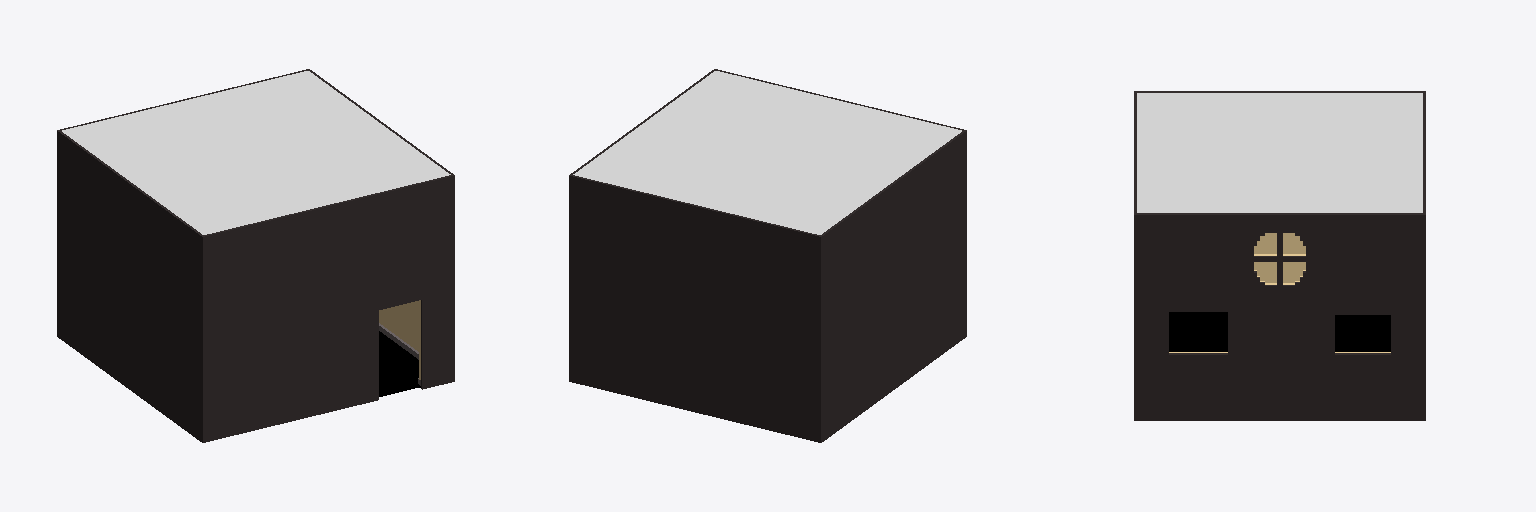
The picture shows the model from 3 angles: view 1: azimuth 30°, elevation 25°; view 2: azimuth 150°, elevation 25°; view 3: azimuth 270°, elevation 25°; orthographic projection.
Parts seen in each view (by area): view 1: object 1; view 2: object 1; view 3: object 1.
Part boxes in pixels (x1,y1,x2,y2): object 1: (57, 69, 454, 442); object 1: (569, 69, 966, 442); object 1: (1134, 91, 1425, 420).
Size of the model in its own units: 10 by 7.8 by 10.
1 materials, 1 textured.